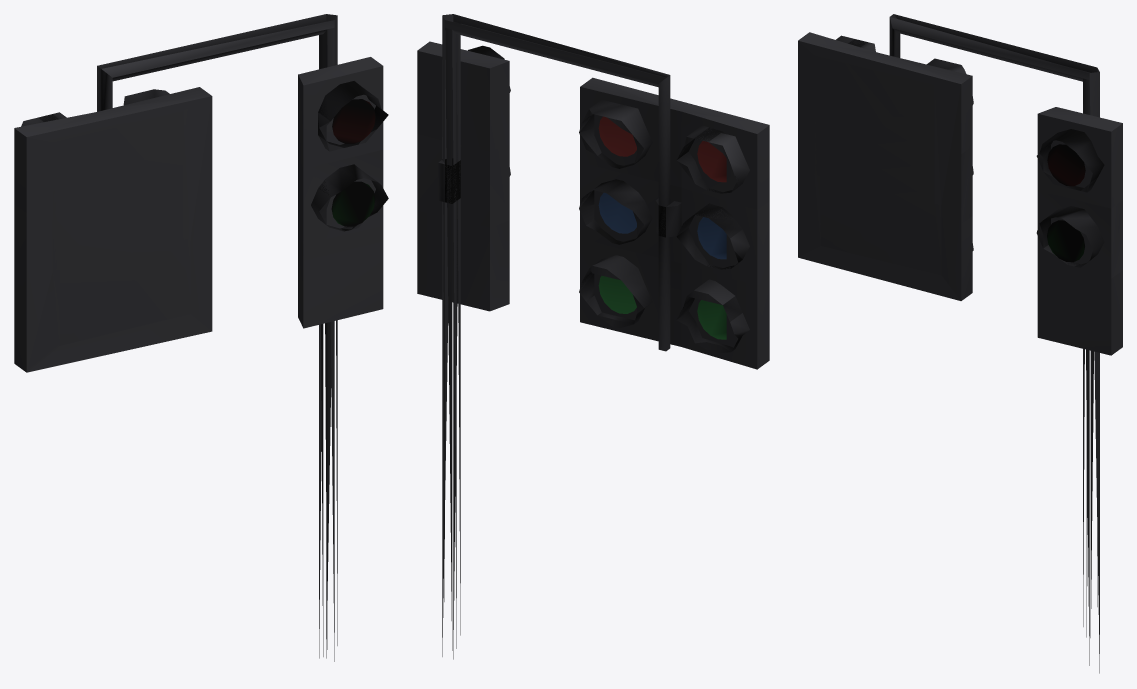
The model's file is bahrain_pitexit.glb.
3 renders of one model, left to right at view 1: azimuth 30°, elevation 25°; view 2: azimuth 150°, elevation 25°; view 3: azimuth 330°, elevation 25°, orthographic. The views are drawn at different scales.
Visible parts, largest first — view 1: pitexit_housing, pitexit_red, pitexit_green; view 2: pitexit_housing, pitexit_b_c1_r2_blue, pitexit_b_c1_r3_green, pitexit_b_c1_r1_red, pitexit_b_c2_r2_blue, pitexit_b_c2_r3_green, pitexit_b_c2_r1_red; view 3: pitexit_housing, pitexit_red, pitexit_green.
Part boxes in pixels (x1=…): pitexit_housing: x1=14, y1=14, x2=388, y2=661; pitexit_red: x1=332, y1=99, x2=375, y2=143; pitexit_green: x1=331, y1=181, x2=375, y2=226; pitexit_housing: x1=417, y1=14, x2=769, y2=659; pitexit_b_c1_r2_blue: x1=598, y1=192, x2=636, y2=233; pitexit_b_c1_r3_green: x1=598, y1=276, x2=636, y2=313; pitexit_b_c1_r1_red: x1=598, y1=116, x2=636, y2=156; pitexit_b_c2_r2_blue: x1=697, y1=217, x2=726, y2=259; pitexit_b_c2_r3_green: x1=697, y1=300, x2=726, y2=339; pitexit_b_c2_r1_red: x1=697, y1=141, x2=726, y2=182; pitexit_housing: x1=798, y1=14, x2=1122, y2=673; pitexit_red: x1=1047, y1=144, x2=1085, y2=186; pitexit_green: x1=1047, y1=220, x2=1084, y2=262.
Size of the model in its own units: 1.38 by 2.48 by 0.346.
